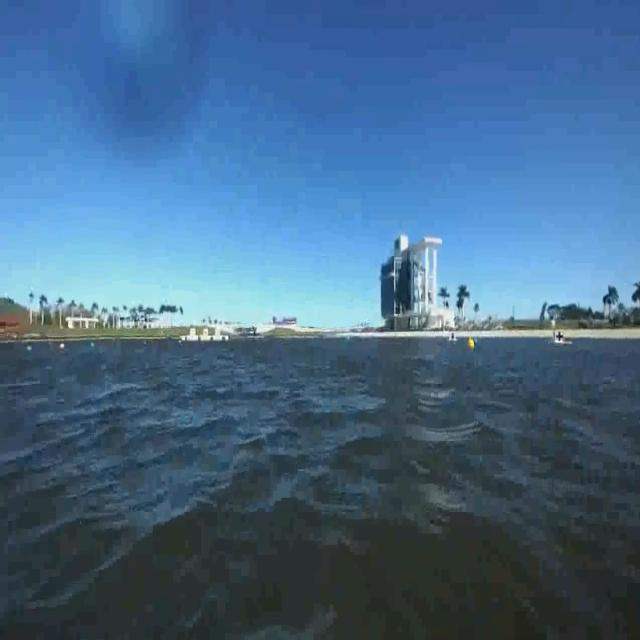yellow-buoy: (470, 337, 478, 352)
